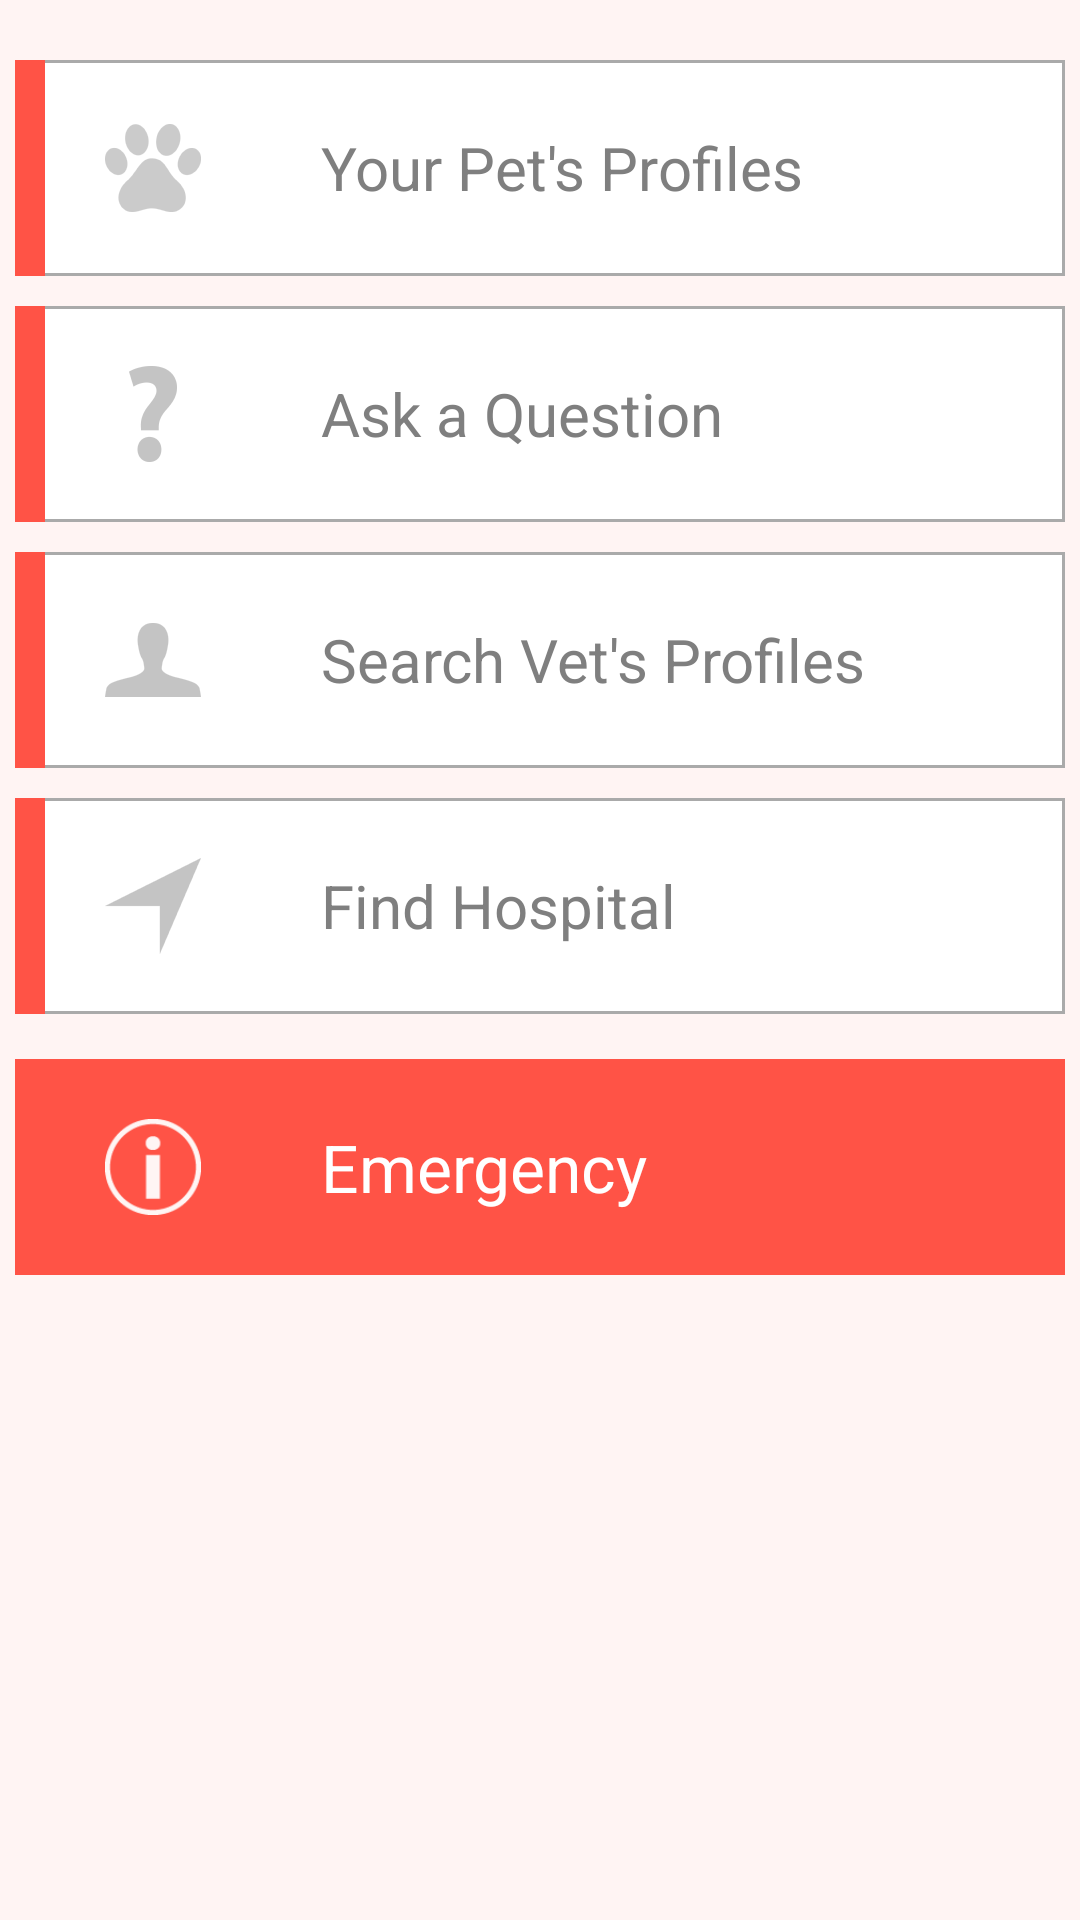

Named icons in this screenshot (1080×1920) and their bounding boxes, (x1, y1, x2, y2):
about: (105, 1119, 201, 1215)
paw: (105, 124, 201, 212)
